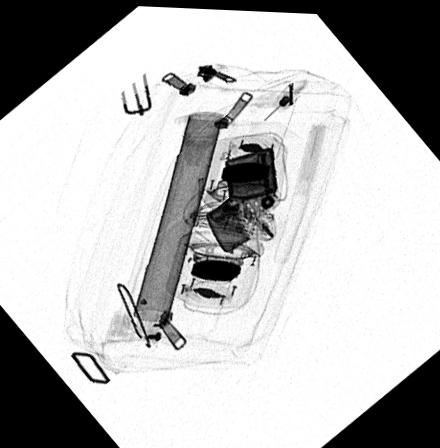Lighter: (202, 144, 277, 252)
